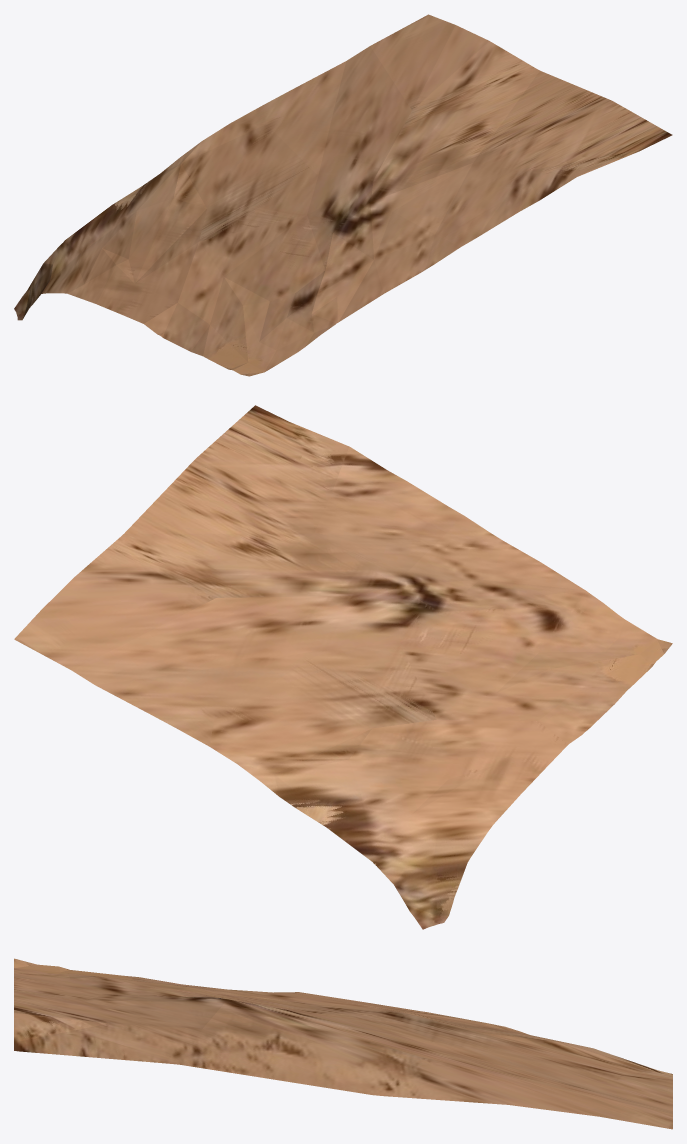
The picture shows the model from 3 angles, top to bottom: view 1: azimuth 30°, elevation 25°; view 2: azimuth 150°, elevation 25°; view 3: azimuth 270°, elevation 25°; orthographic projection. The views are drawn at different scales.
Size of the model in its own units: 1.04 by 0.5931 by 1.04.
3 materials, 3 textured.
